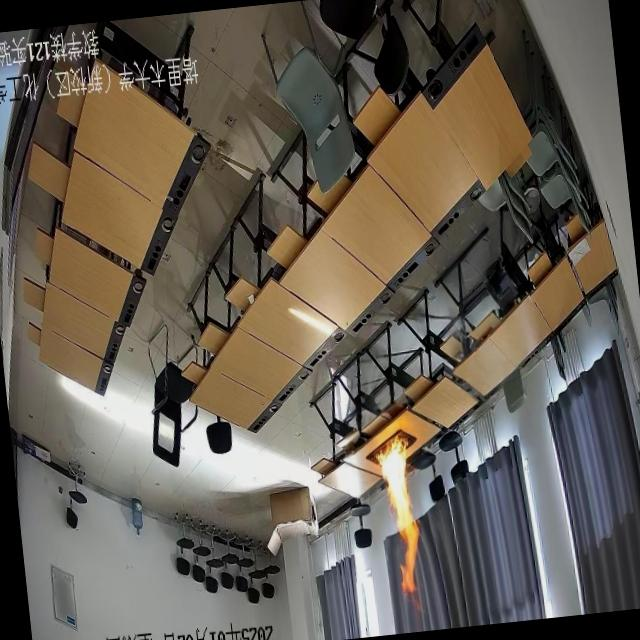fire: (356, 424, 438, 614)
